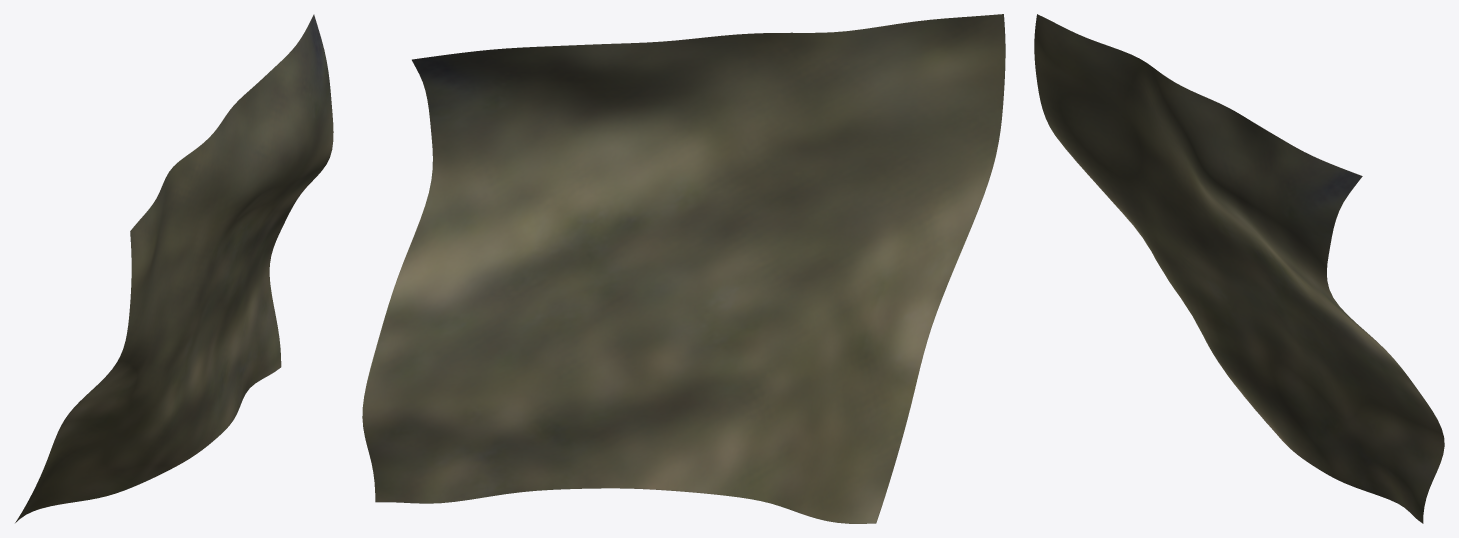
Rendered from ground_mid_01_04.obj.
3 renders of one model, left to right at view 1: azimuth 30°, elevation 25°; view 2: azimuth 150°, elevation 25°; view 3: azimuth 270°, elevation 25°, orthographic. The views are drawn at different scales.
Parts seen in each view (by area): view 1: ground_mid_01_04; view 2: ground_mid_01_04; view 3: ground_mid_01_04.
Boxes of the visible parts, box(x1,y1,x2,y2) form: ground_mid_01_04: box(15, 14, 333, 522); ground_mid_01_04: box(362, 14, 1005, 523); ground_mid_01_04: box(1034, 14, 1444, 523).
Bounding box in the file's own units: 200 × 200 × 214.
1 material, 1 textured.
